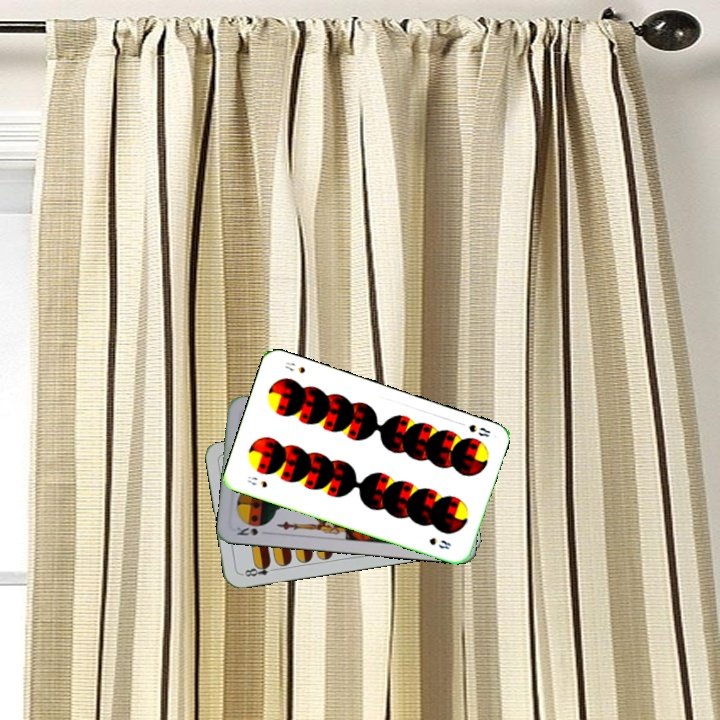E8: (238, 559, 278, 579)
S8: (465, 420, 493, 440), (243, 472, 270, 490)
SK: (233, 523, 261, 538)
